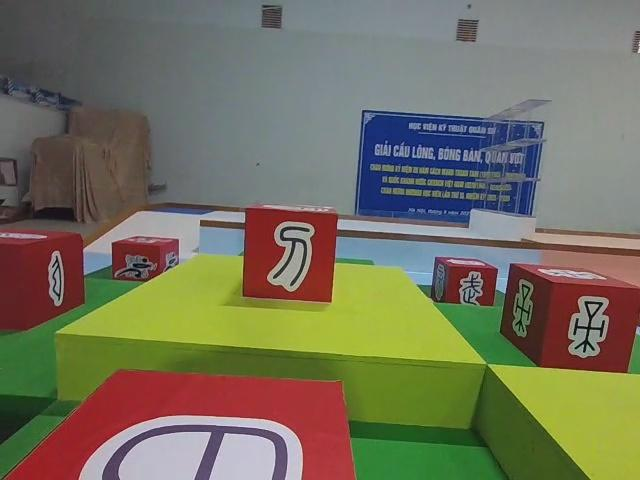R1: (109, 232, 181, 287)
R2 Fake: (0, 365, 357, 480), (240, 201, 341, 304), (431, 254, 499, 310)
R2 Real: (497, 260, 640, 377), (0, 224, 87, 333)
